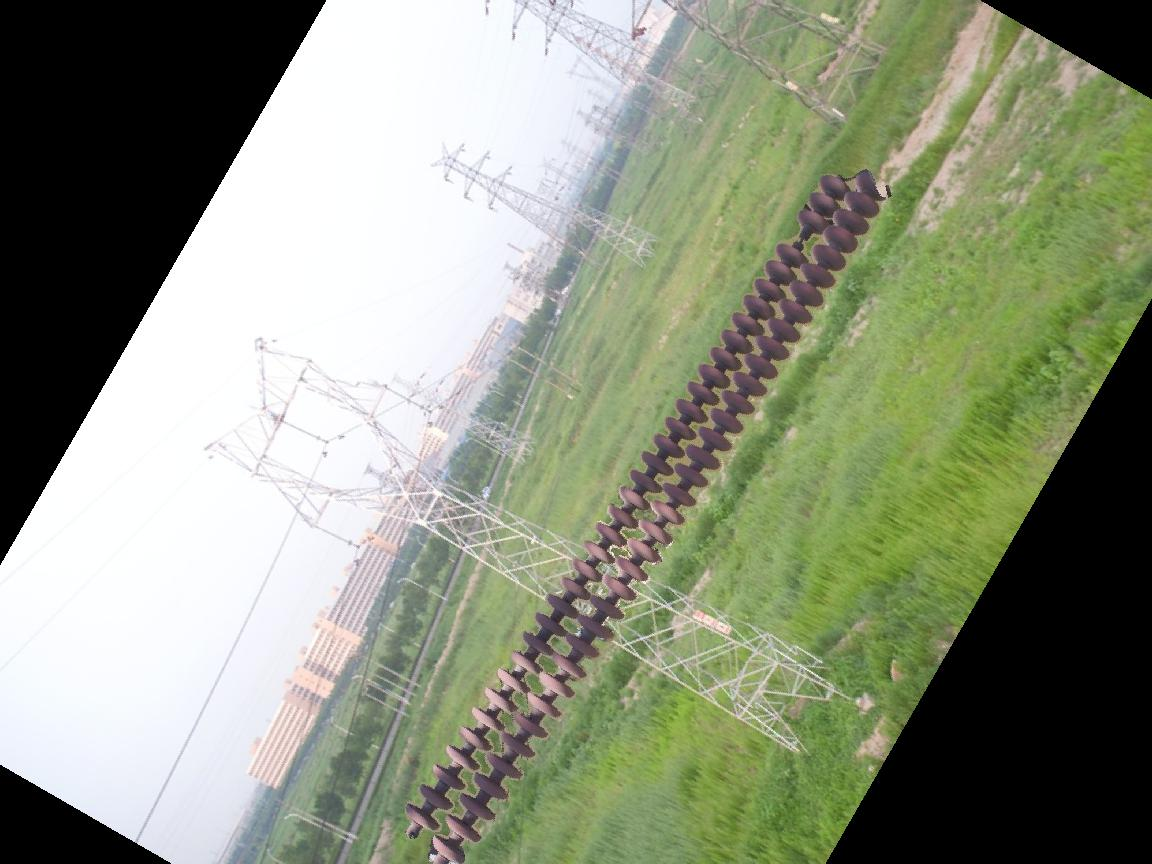insulator: (400, 161, 883, 864)
insulator_stringdrop: (773, 208, 830, 271)
